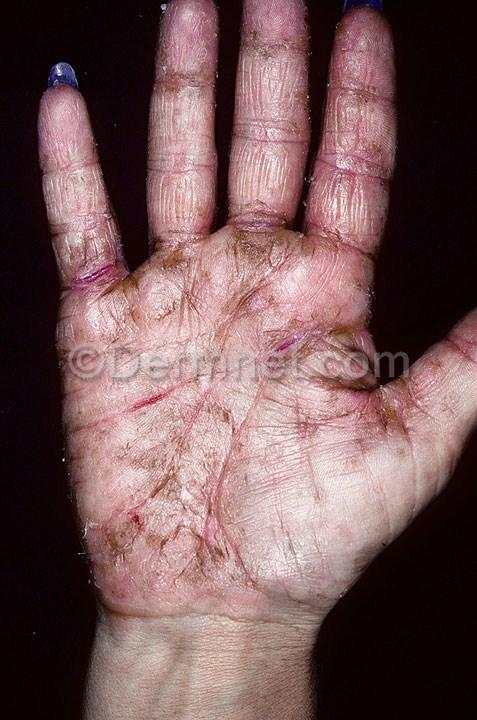Eczema: (98, 462, 242, 605), (202, 239, 338, 385), (73, 287, 193, 450), (228, 391, 338, 501), (231, 133, 304, 229), (150, 69, 214, 173), (241, 18, 310, 112), (326, 42, 397, 129), (326, 134, 392, 225), (57, 219, 137, 288), (53, 157, 127, 224), (347, 394, 418, 461), (430, 343, 477, 393), (153, 189, 212, 224)
